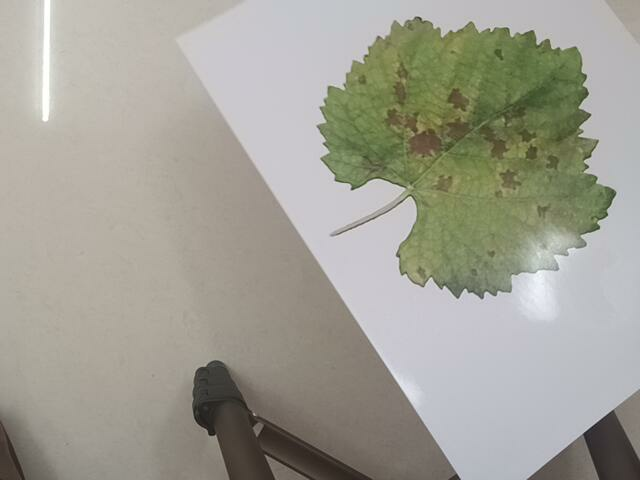Grape_Leaf_Vine_Disease: (298, 6, 613, 307)
